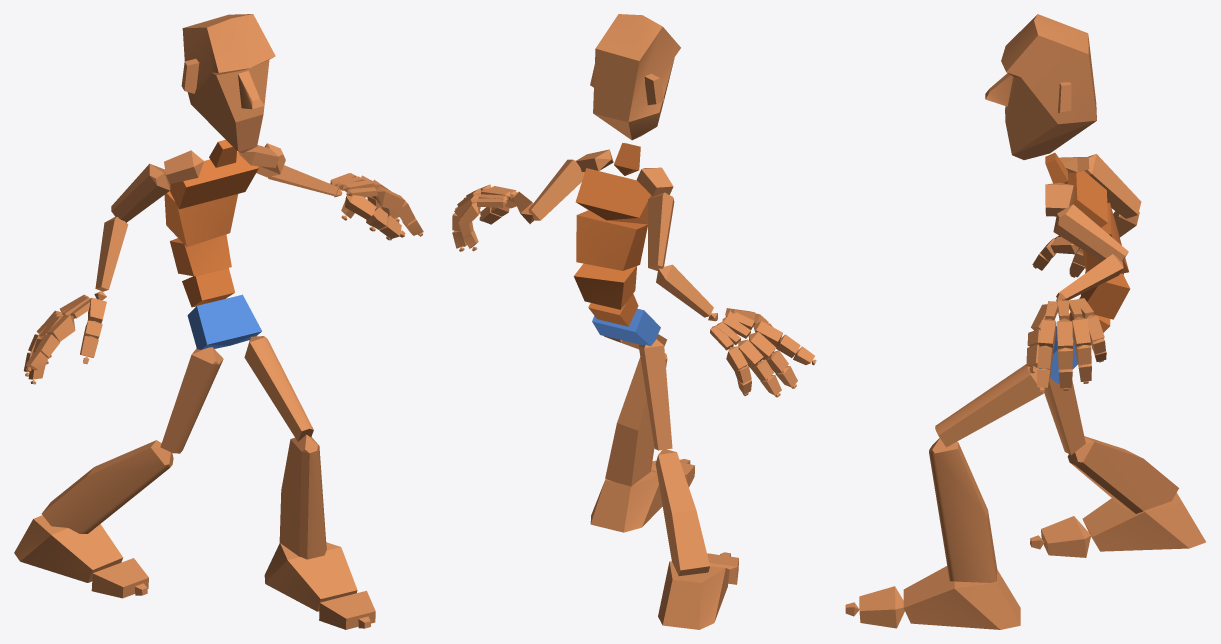
3 renders of one model, left to right at view 1: azimuth 30°, elevation 25°; view 2: azimuth 150°, elevation 25°; view 3: azimuth 270°, elevation 25°, orthographic. The views are drawn at different scales.
Visible parts, largest first — view 1: BOPED_Head, BOPED_R_leg, BOPED_L_leg, BOPED_R_foot, BOPED_R_foot01, BOPED_R_legup, Bone01, BOPED_L_legup, Bone04, Bone05, Bone03, BOPED_R_arm_upper (+7 smaller); view 2: BOPED_Head, BOPED_R_leg, BOPED_L_leg, BOPED_R_foot, Bone04, BOPED_R_foot01, Bone05, BOPED_R_legup, Bone03, BOPED_R_arm_upper, BOPED_L_arm_upper, Bone01 (+6 smaller); view 3: BOPED_Head, BOPED_L_leg, BOPED_R_foot01, BOPED_R_foot, BOPED_R_leg, BOPED_L_legup, BOPED_L_arm_upper, BOPED_R_legup, BOPED_R_foot_toe01, BOPED_R_arm_upper, BOPED_R_foot_toe04, Bone05 (+5 smaller).
Part boxes in pixels (left/top/right/bottom): BOPED_Head: left=181, top=14, right=275, bottom=152; BOPED_R_leg: left=41, top=440, right=173, bottom=533; BOPED_L_leg: left=279, top=434, right=326, bottom=559; BOPED_R_foot: left=14, top=515, right=123, bottom=582; BOPED_R_foot01: left=264, top=542, right=357, bottom=611; BOPED_R_legup: left=160, top=347, right=223, bottom=453; Bone01: left=187, top=294, right=261, bottom=349; BOPED_L_legup: left=244, top=336, right=313, bottom=441; Bone04: left=164, top=191, right=237, bottom=246; Bone05: left=170, top=152, right=258, bottom=209; Bone03: left=170, top=234, right=231, bottom=276; BOPED_R_arm_upper: left=111, top=163, right=170, bottom=222; BOPED_Head: left=590, top=14, right=680, bottom=140; BOPED_R_leg: left=655, top=449, right=709, bottom=575; BOPED_L_leg: left=605, top=353, right=667, bottom=486; BOPED_R_foot: left=658, top=561, right=729, bottom=629; Bone04: left=576, top=210, right=647, bottom=270; BOPED_R_foot01: left=590, top=470, right=662, bottom=532; Bone05: left=575, top=168, right=653, bottom=224; BOPED_R_legup: left=638, top=339, right=672, bottom=450; Bone03: left=573, top=263, right=636, bottom=309; BOPED_R_arm_upper: left=648, top=192, right=674, bottom=270; BOPED_L_arm_upper: left=528, top=159, right=584, bottom=220; Bone01: left=592, top=308, right=660, bottom=346; BOPED_Head: left=985, top=14, right=1096, bottom=159; BOPED_L_leg: left=929, top=438, right=997, bottom=582; BOPED_R_foot01: left=903, top=566, right=1020, bottom=629; BOPED_R_foot: left=1082, top=493, right=1205, bottom=551; BOPED_R_leg: left=1067, top=436, right=1178, bottom=513; BOPED_L_legup: left=935, top=364, right=1044, bottom=447; BOPED_L_arm_upper: left=1053, top=204, right=1128, bottom=261; BOPED_R_legup: left=1044, top=378, right=1085, bottom=454; BOPED_R_foot_toe01: left=1041, top=516, right=1091, bottom=557; BOPED_R_arm_upper: left=1084, top=154, right=1141, bottom=218; BOPED_R_foot_toe04: left=859, top=586, right=904, bottom=628; Bone05: left=1067, top=171, right=1107, bottom=227.
Size of the model in its own units: 130 by 178 by 102.
